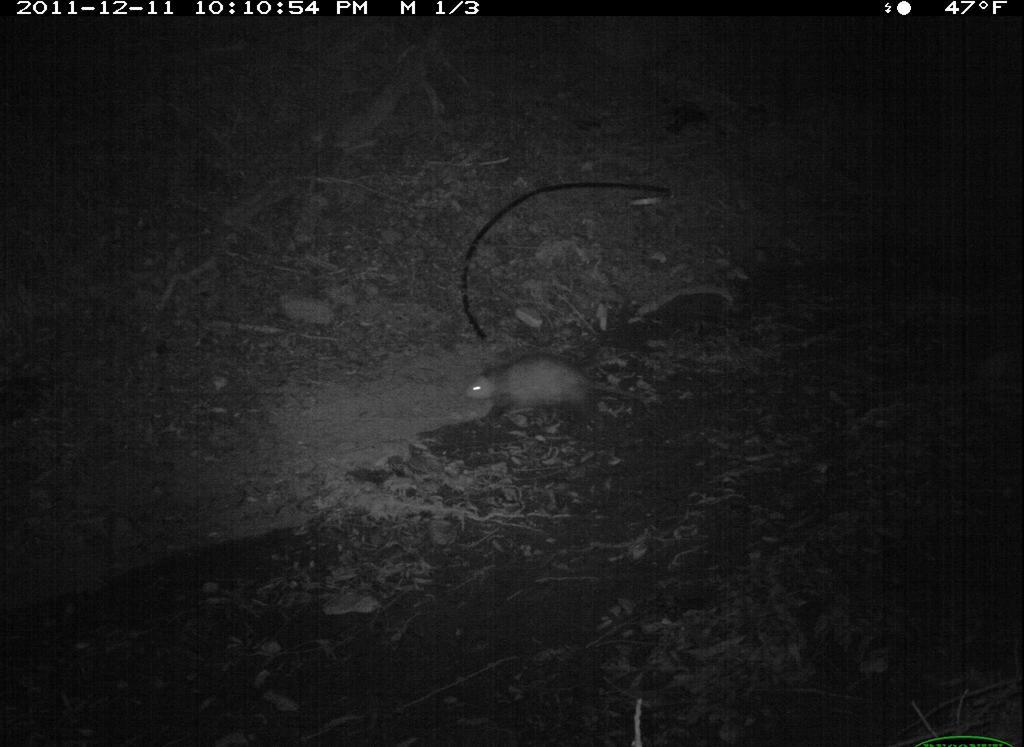opossum: (454, 346, 655, 440)
